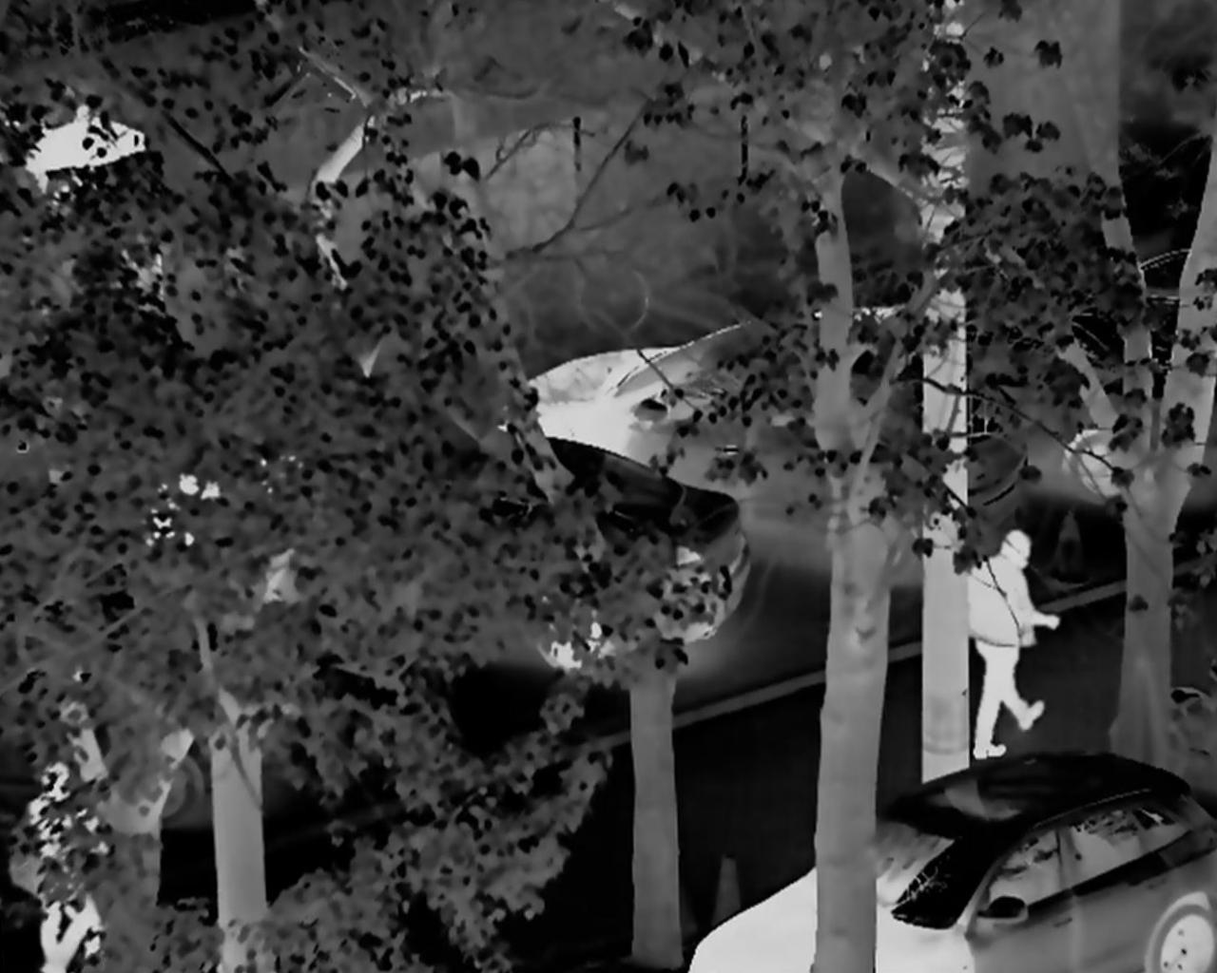person: (962, 530, 1060, 759), (30, 763, 108, 973)
